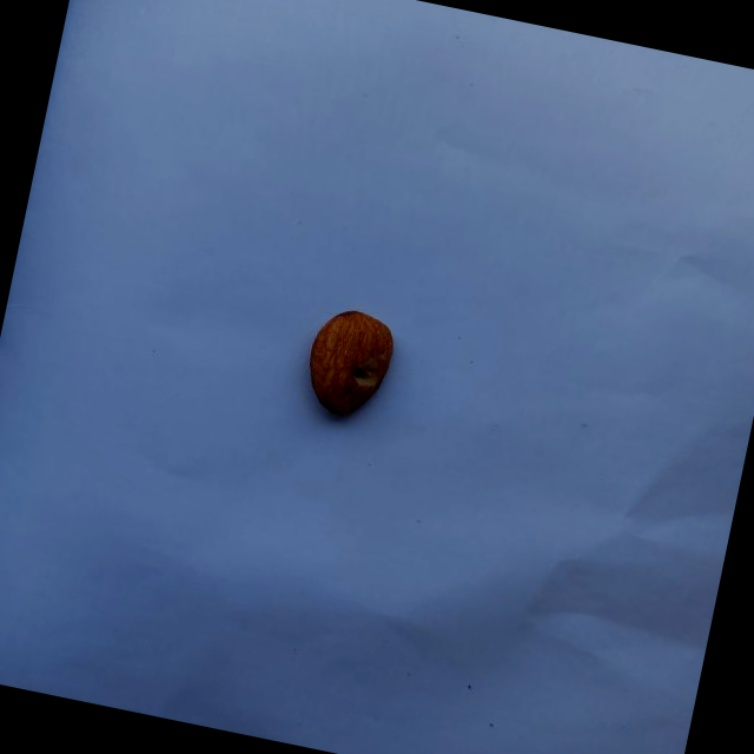grade3: (296, 299, 406, 430)
